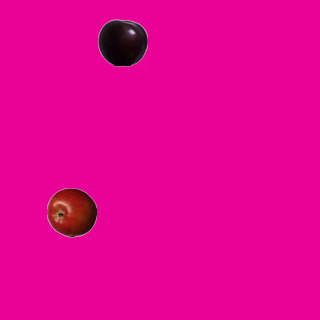Apple Braeburn: (46, 187, 96, 237)
Cherry Wax Black: (97, 17, 147, 67)
